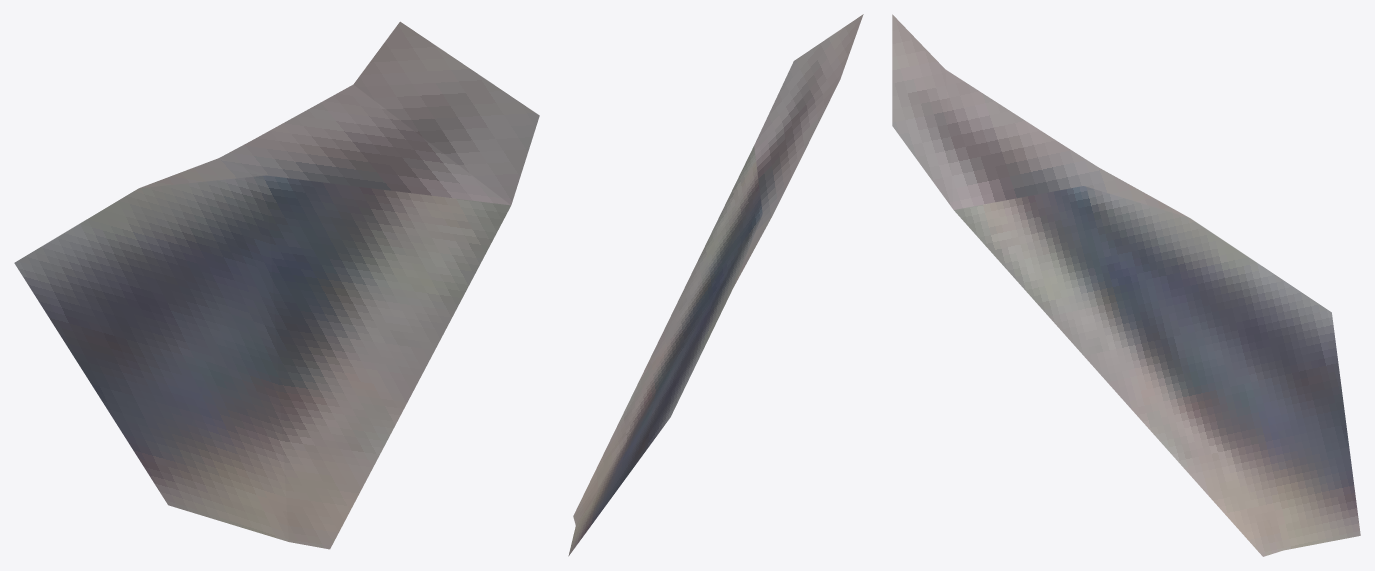
File: Tile__003__007_L20_000430.glb
3 views of the same model, side by side, from view 1: azimuth 30°, elevation 25°; view 2: azimuth 150°, elevation 25°; view 3: azimuth 270°, elevation 25° (orthographic). The views are drawn at different scales.
Parts seen in each view (by area): view 1: root; view 2: root; view 3: root.
Boxes of the visible parts, left/top/right/bottom form: root: left=14, top=21, right=539, bottom=549; root: left=568, top=14, right=863, bottom=556; root: left=892, top=14, right=1360, bottom=556.
Bounding box in the file's own units: 1.92 × 5.94 × 5.35.
1 material, 1 textured.
